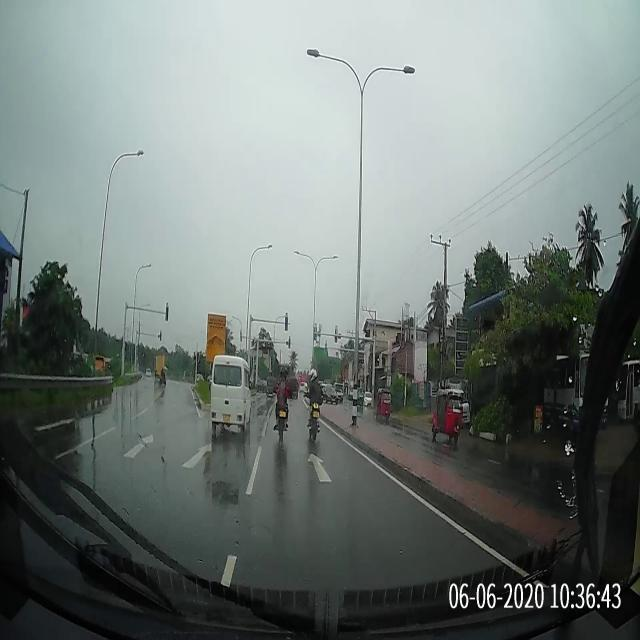forward: (238, 442, 429, 501)
